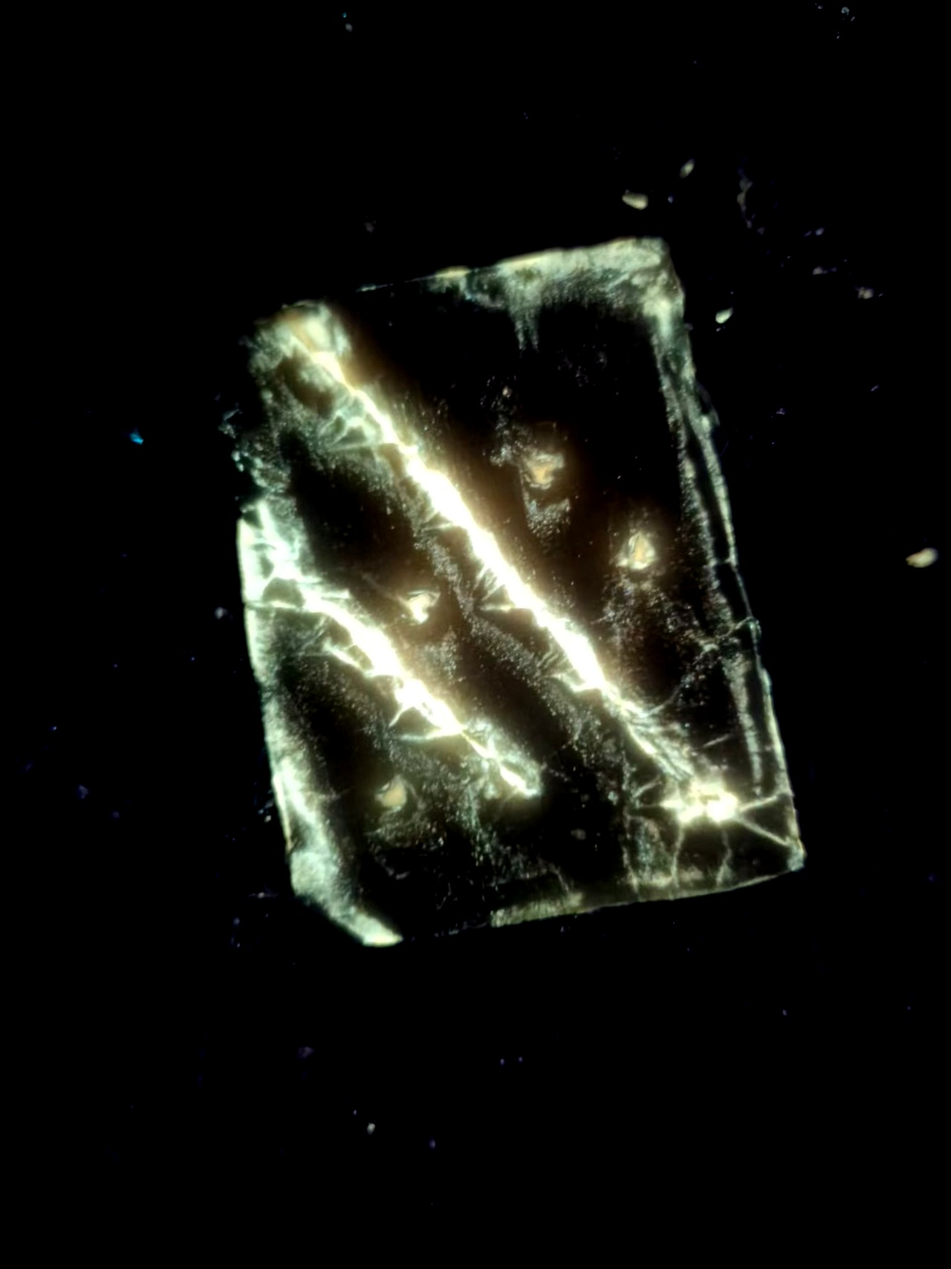Crater: (492, 398, 587, 533), (345, 755, 439, 858), (590, 506, 683, 609), (381, 559, 457, 654)
Fissure: (282, 271, 743, 900), (238, 440, 563, 859)
